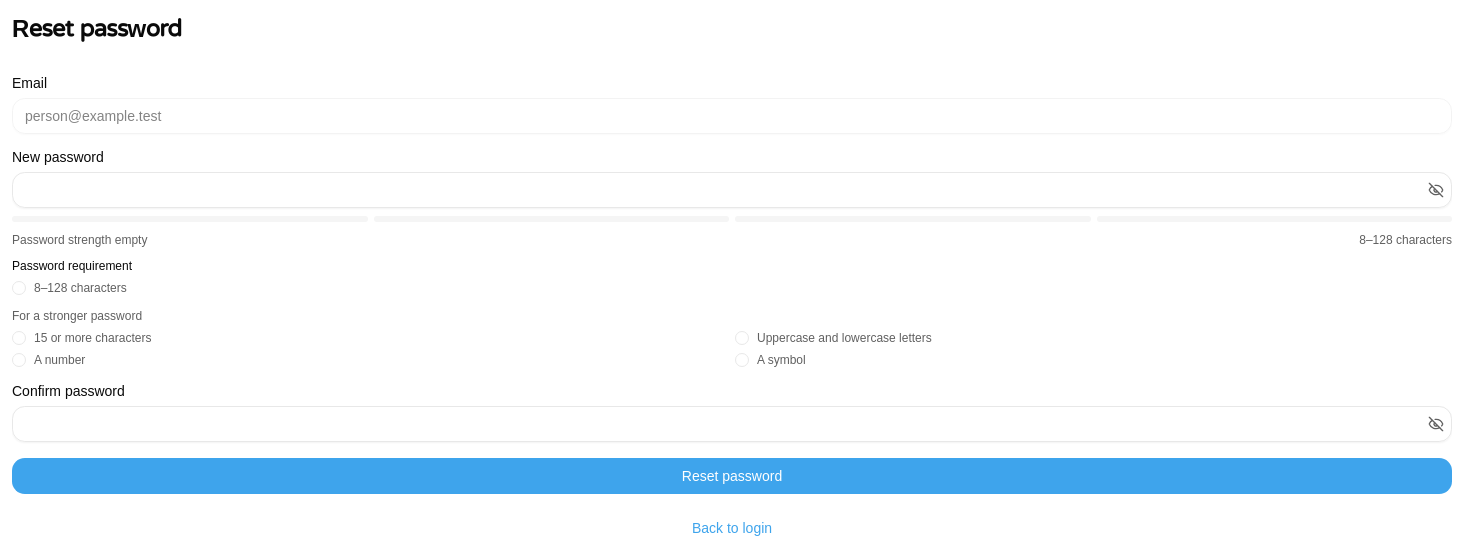
Test case: submits a chosen password and clears it after success without displaying server secrets
Type "chosen-test-password" into the password field labelled "New password" at (732, 190), box [12,172,1452,208]
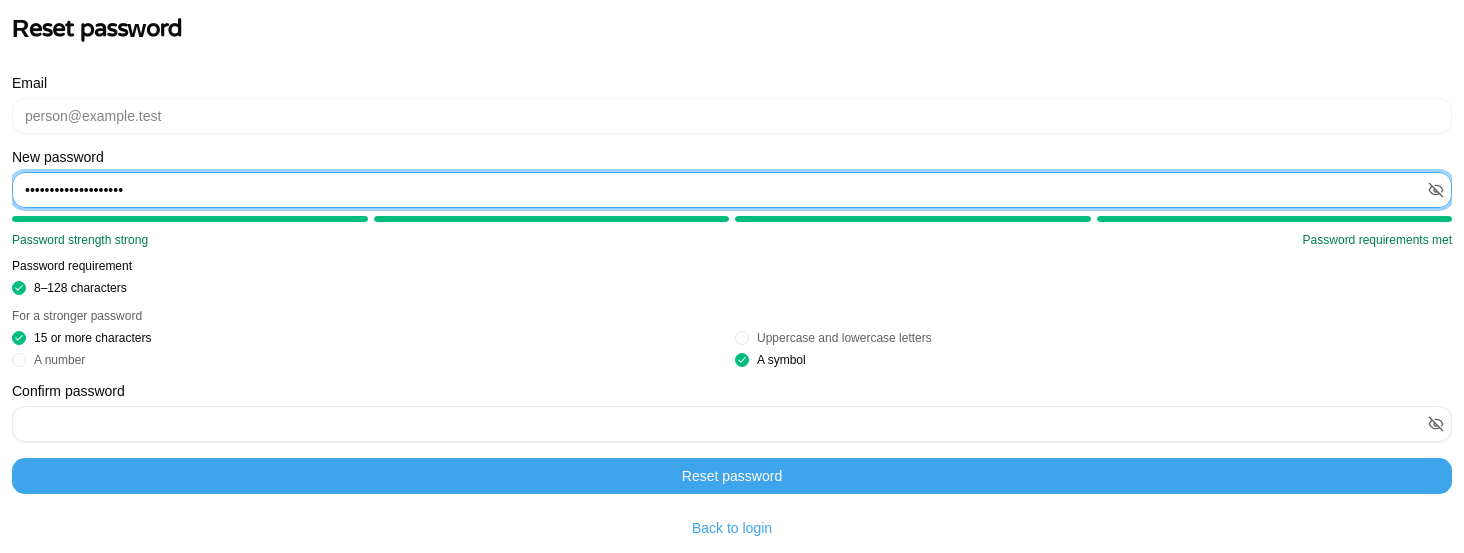
Type "chosen-test-password" into the password field labelled "Confirm password" at (732, 424), box [12,406,1452,442]
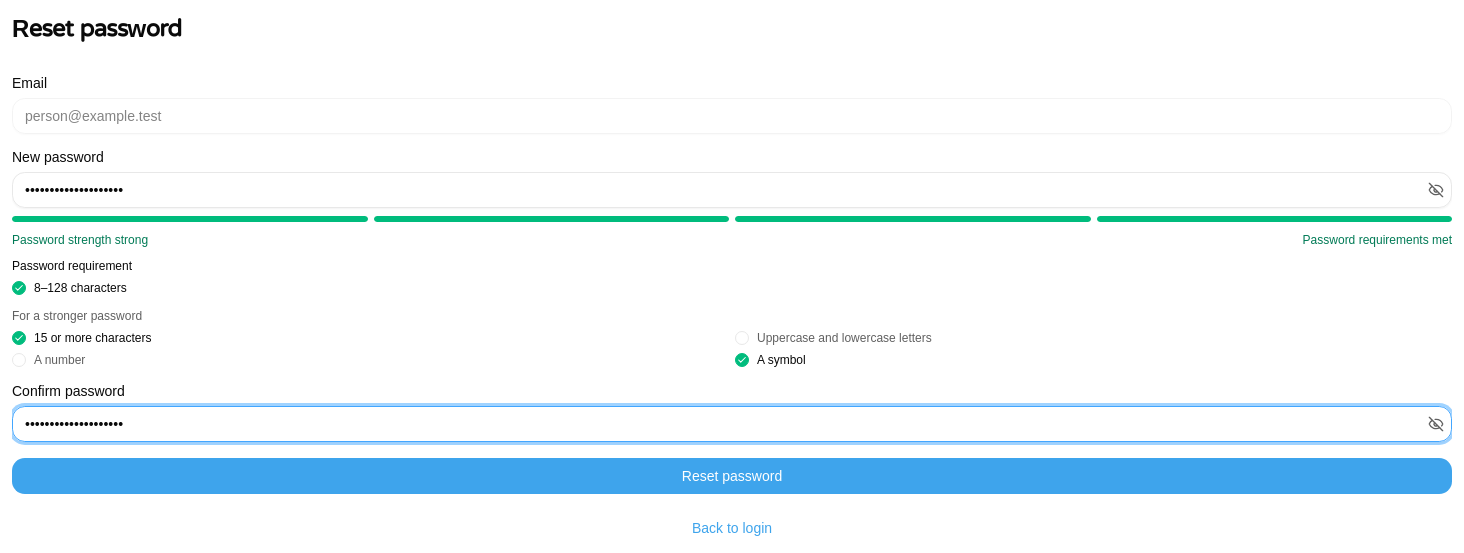
Click the button "Reset password" at (732, 476), box [12,458,1452,494]
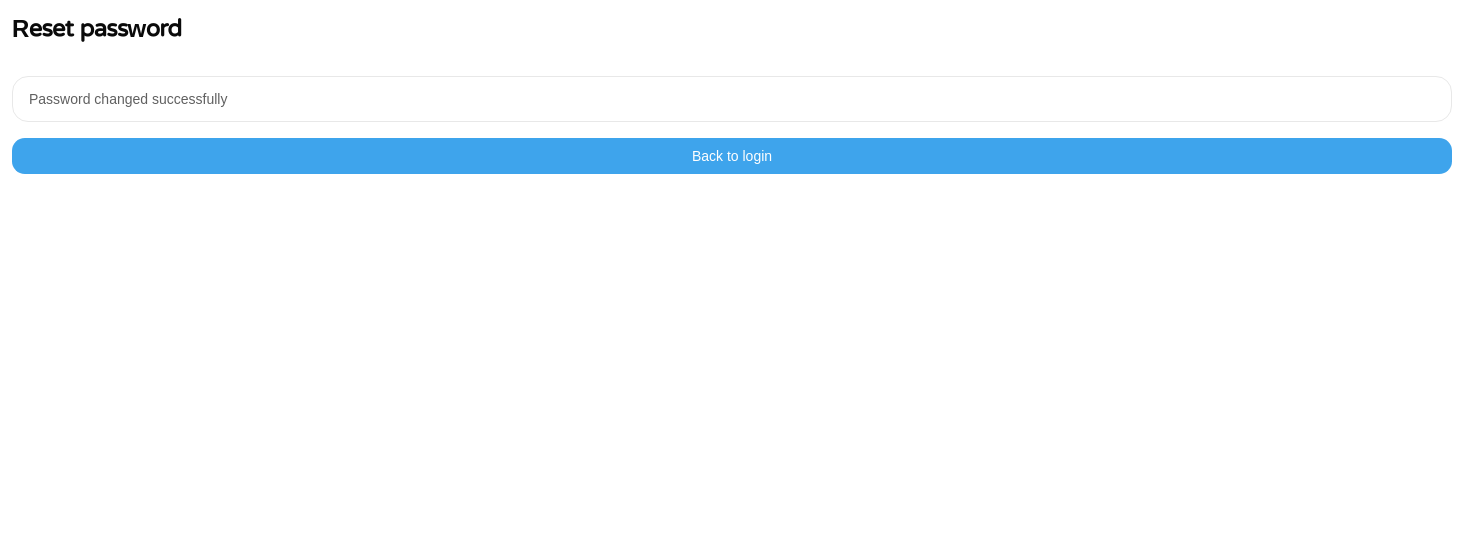
Now the text "Password changed successfully" is shown, box [29,91,227,107]
Now the label labelled "New password" is gone
